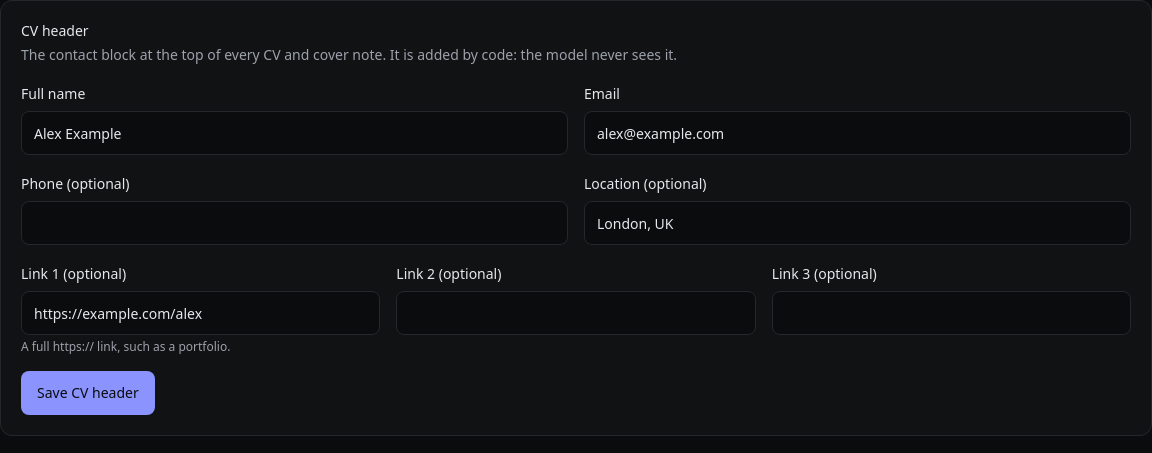
CvHeaderCard › shows an error when saving fails
In the field labelled "Phone (optional)": (294, 223) [21,201,568,245], type "1"
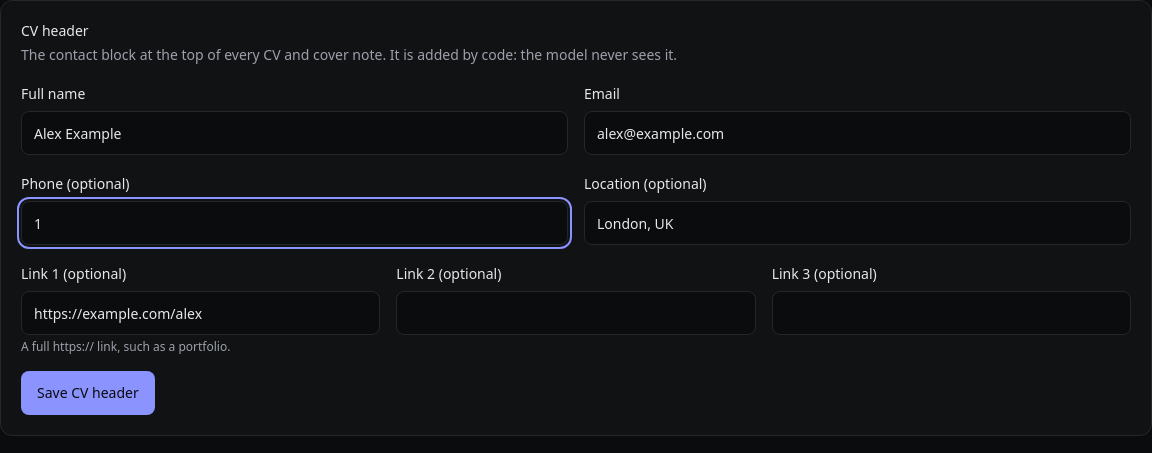
Click the button "Save CV header": click(88, 393) [21,371,155,415]
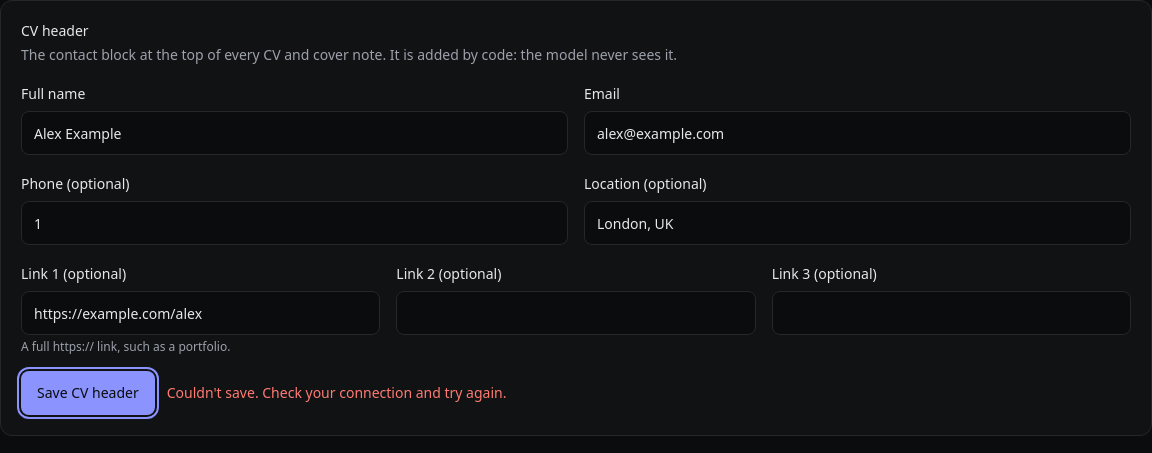
Check: the text "Couldn't save. Check your connection and try again." is shown, box [167,383,506,402]
